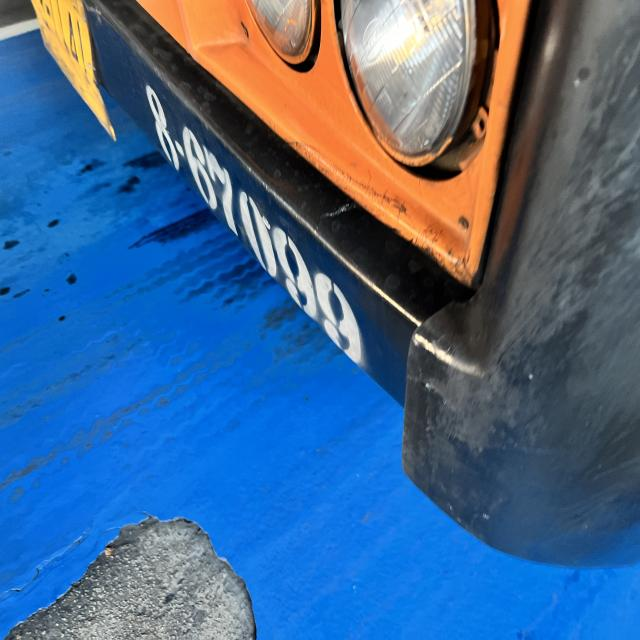BMTA-bus: (0, 0, 640, 573)
